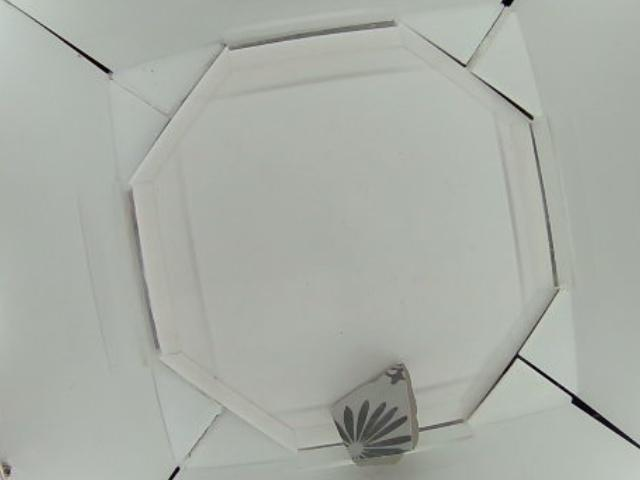China: (330, 361, 420, 467)
